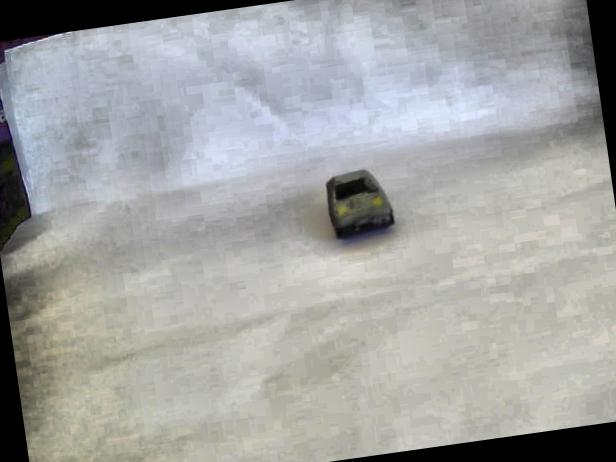normal_car: (322, 164, 398, 240)
